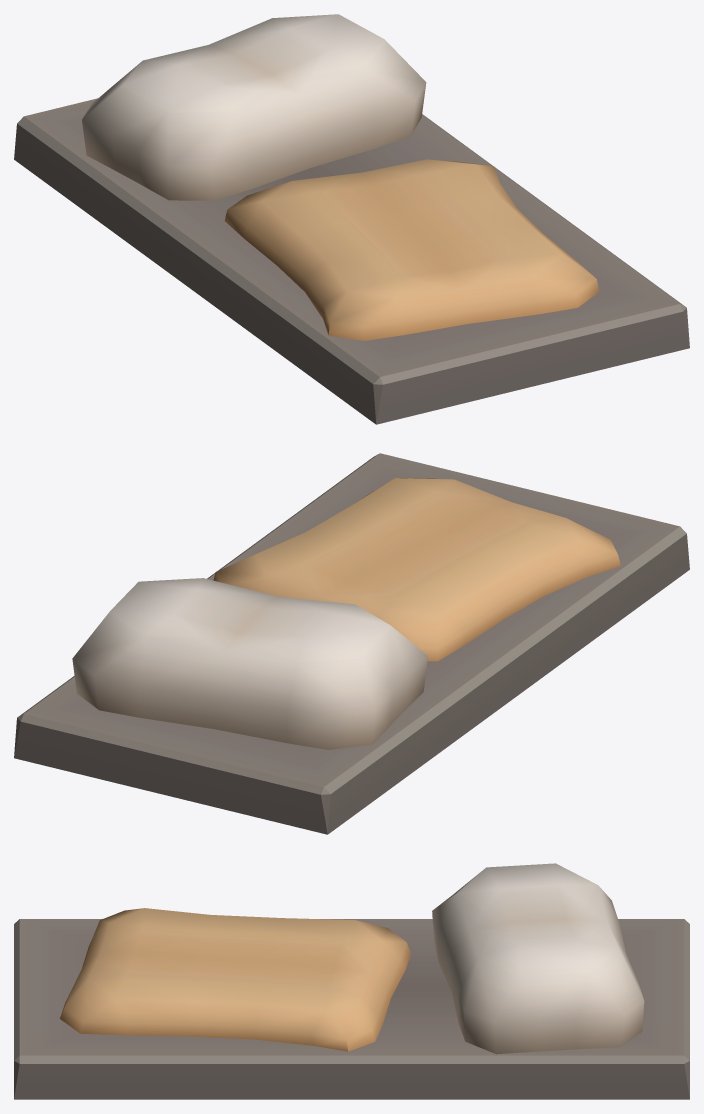
File: bunk.glb
The picture shows the model from 3 angles, top to bottom: view 1: azimuth 30°, elevation 25°; view 2: azimuth 150°, elevation 25°; view 3: azimuth 270°, elevation 25°; orthographic projection. The views are drawn at different scales.
Parts seen in each view (by area): view 1: bed_floor; view 2: bed_floor; view 3: bed_floor.
Part boxes in pixels (x1=…): bed_floor: x1=14, y1=14, x2=689, y2=424; bed_floor: x1=14, y1=453, x2=689, y2=834; bed_floor: x1=14, y1=863, x2=689, y2=1099.
Size of the model in its own units: 1.5 by 0.5626 by 3.
Materials: 1 (1 with a texture image).
